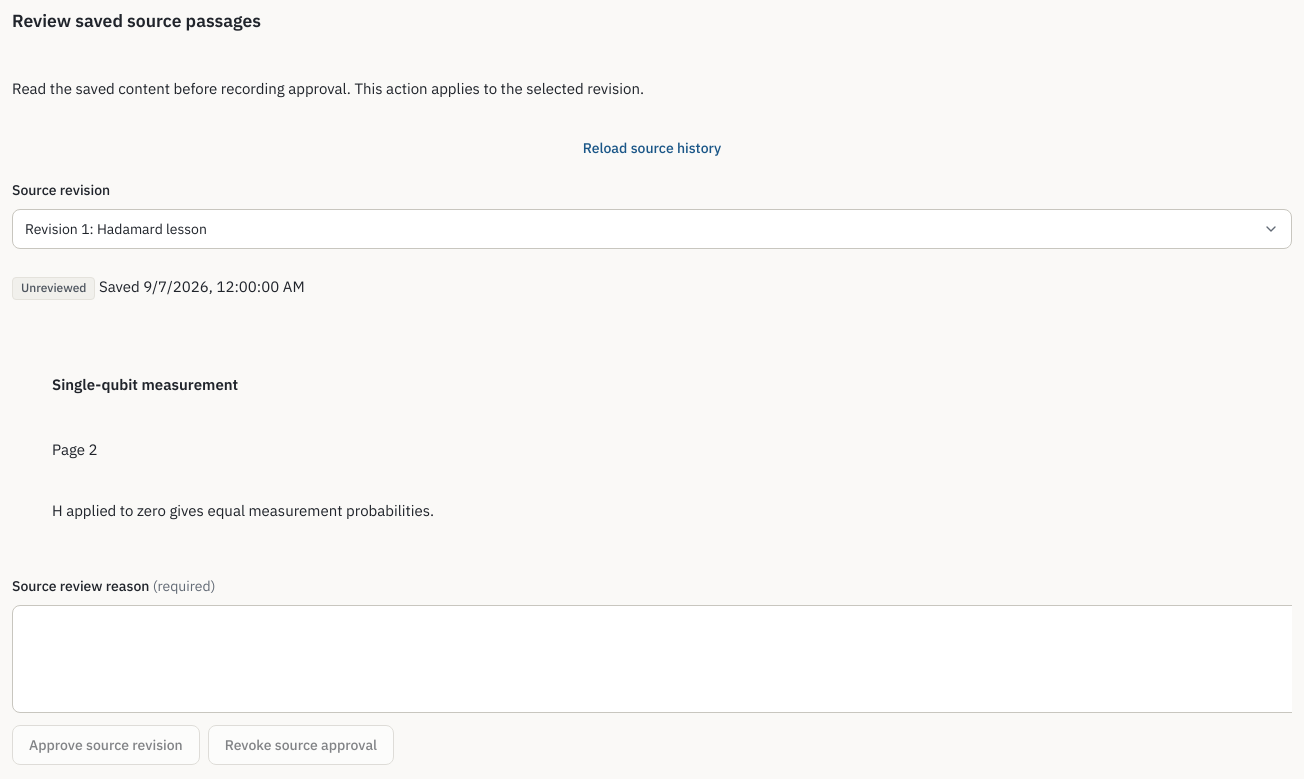
Test: shows a source review conflict without replacing its displayed approval state
(page scrolled)
Type "Checked" into the text box labelled "Source review reason (required)".
click(652, 659); type("Checked")  # box [12, 605, 1292, 713]
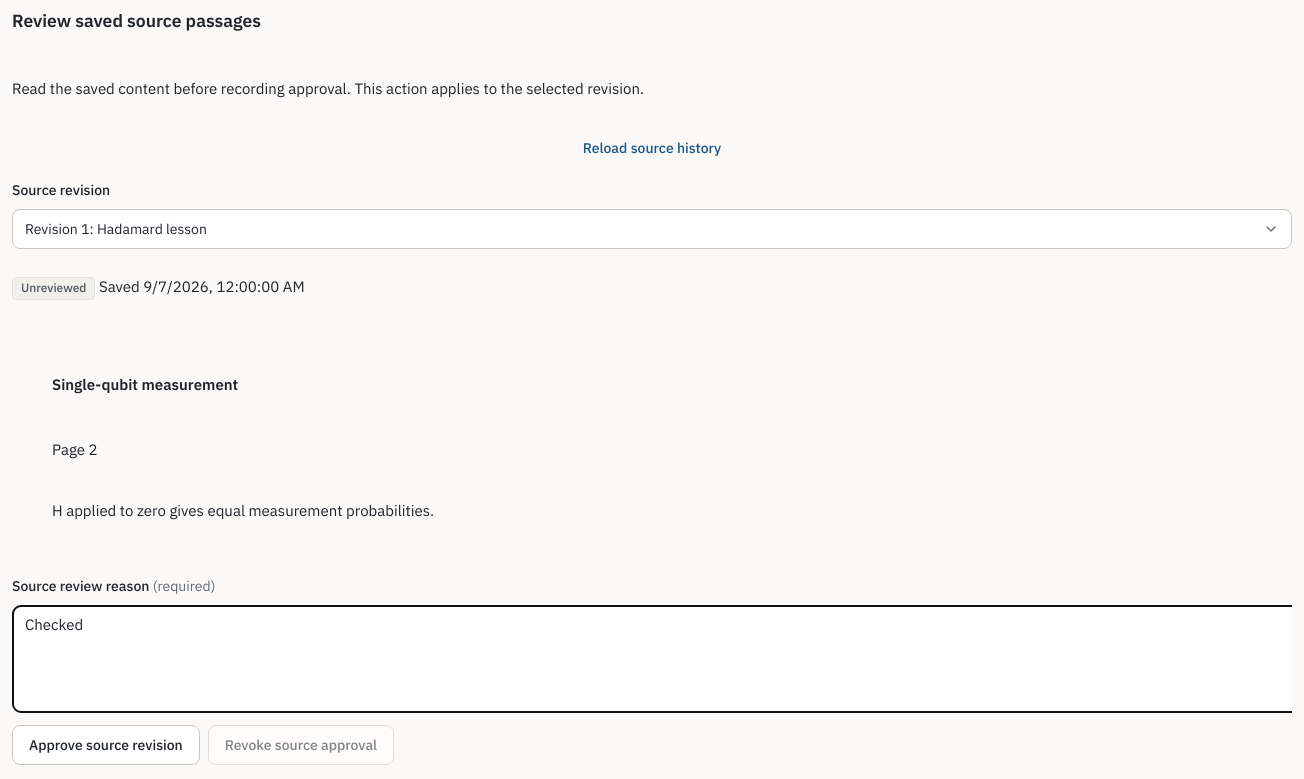
Click the button "Approve source revision".
click(106, 745)  # box [12, 725, 200, 765]
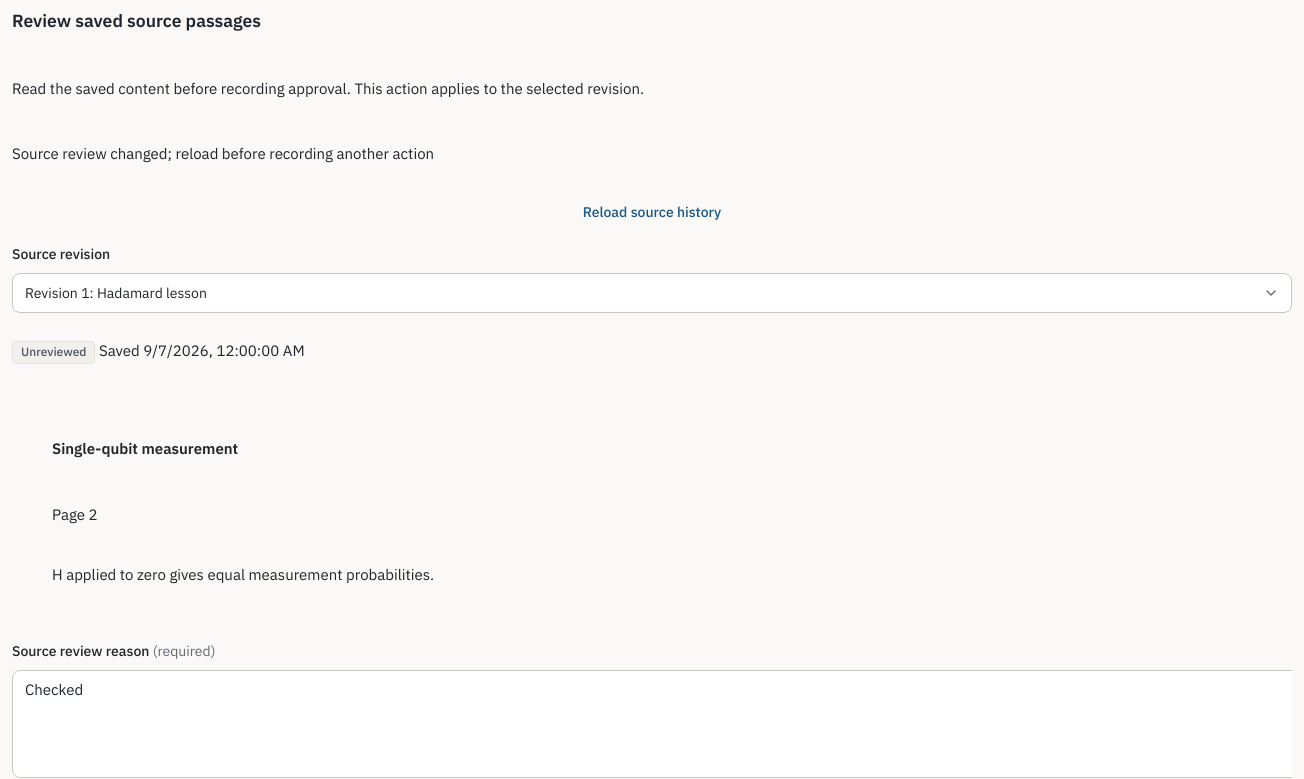
Expected: the text "Unreviewed" is shown, [12, 341, 96, 364]
Expected: the message reads "Source review changed; reload before recording another action", [12, 144, 434, 163]
